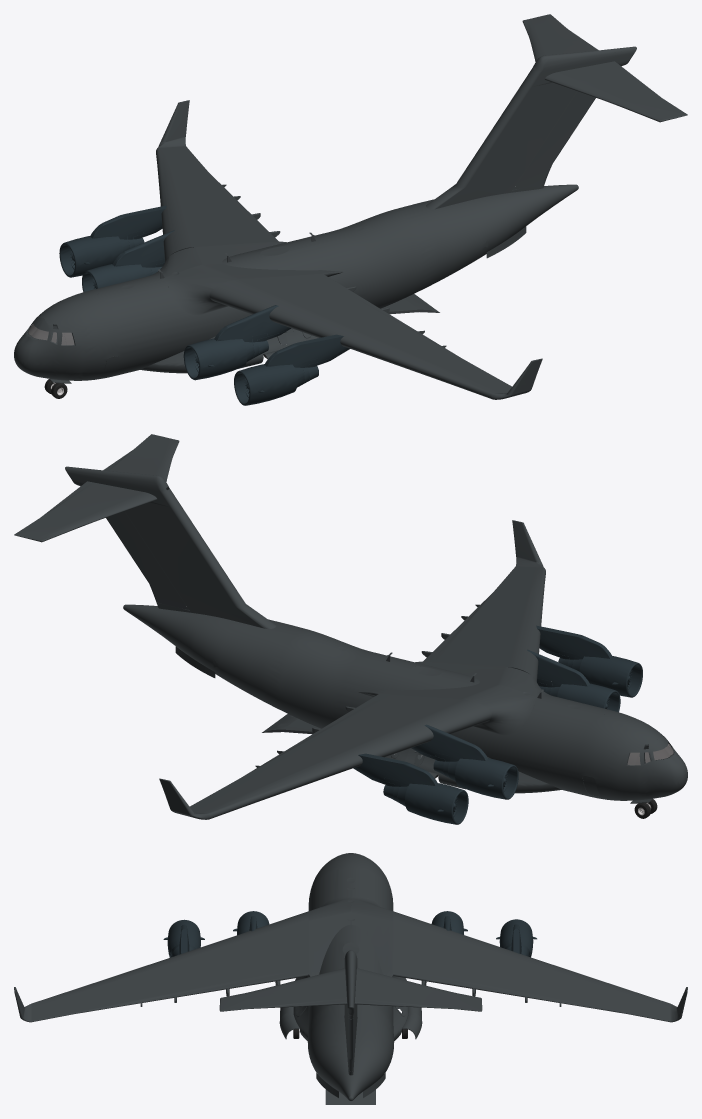
3 renders of one model, top to bottom at view 1: azimuth 30°, elevation 25°; view 2: azimuth 150°, elevation 25°; view 3: azimuth 270°, elevation 25°, orthographic. The views are drawn at different scales.
Parts seen in each view (by area): view 1: Object_6, Object_3, Object_4; view 2: Object_6, Object_3, Object_4; view 3: Object_6, Object_3, Object_4.
Part boxes in pixels (left/top/right/bottom): Object_6: left=14, top=14, right=687, bottom=399; Object_3: left=59, top=205, right=349, bottom=405; Object_4: left=82, top=230, right=291, bottom=380; Object_6: left=14, top=434, right=687, bottom=819; Object_3: left=353, top=625, right=642, bottom=824; Object_4: left=411, top=649, right=620, bottom=799; Object_6: left=14, top=853, right=687, bottom=1104; Object_3: left=163, top=919, right=536, bottom=957; Object_4: left=233, top=911, right=467, bottom=935.
Bounding box in the file's own units: 434 × 148 × 429.
7 materials, 3 textured.
